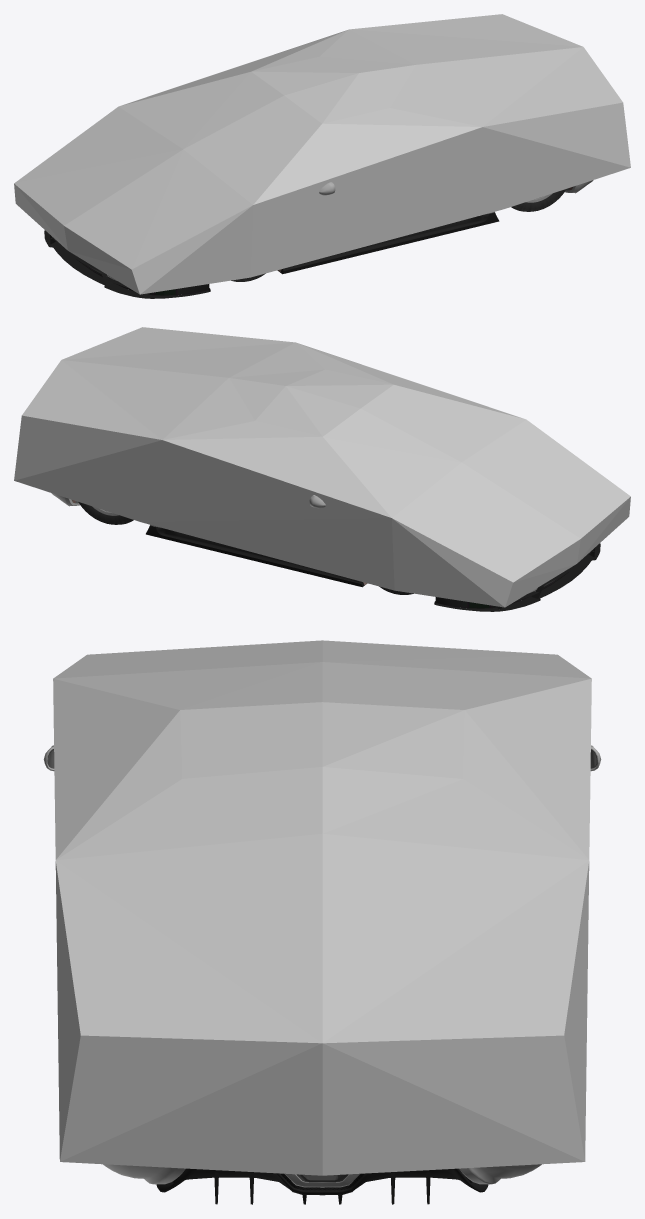
The model's file is furnariscafatigtvehicle.glb.
3 views of the same model, one above another, from view 1: azimuth 30°, elevation 25°; view 2: azimuth 150°, elevation 25°; view 3: azimuth 270°, elevation 25° (orthographic). The views are drawn at different scales.
Parts seen in each view (by area): view 1: phy-body-vehicle-polyhedron-42kg-furnariscafatigt-main, car, wheel-mesh.003; view 2: phy-body-vehicle-polyhedron-42kg-furnariscafatigt-main, car, wheel-mesh.002; view 3: phy-body-vehicle-polyhedron-42kg-furnariscafatigt-main, car.
Part boxes in pixels (x1,y1,x2,y2): phy-body-vehicle-polyhedron-42kg-furnariscafatigt-main: [14, 14, 630, 294]; car: [44, 180, 593, 298]; wheel-mesh.003: [511, 189, 566, 211]; phy-body-vehicle-polyhedron-42kg-furnariscafatigt-main: [14, 327, 630, 607]; car: [51, 493, 600, 611]; wheel-mesh.002: [78, 502, 133, 524]; phy-body-vehicle-polyhedron-42kg-furnariscafatigt-main: [53, 640, 591, 1175]; car: [43, 745, 601, 1204].
Size of the model in its own units: 5.55 by 1.31 by 2.58.
12 materials, 9 textured.
